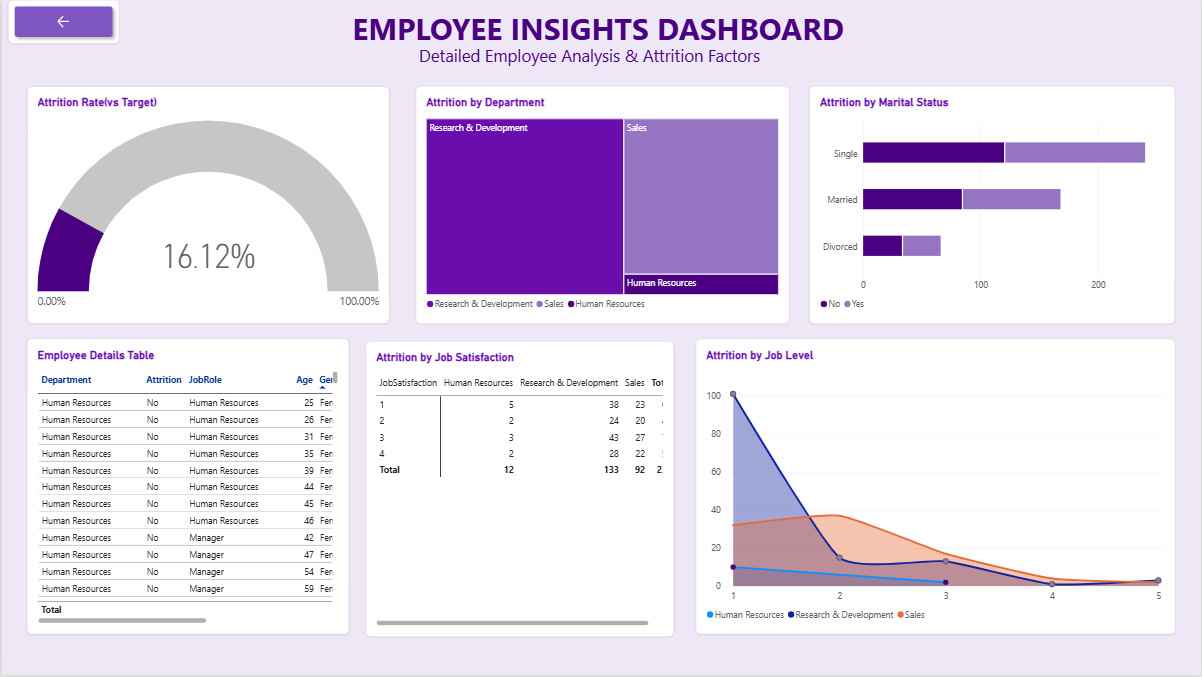

This screenshot's page, from the dashboard's own definition file:
{"tool":"powerbi","page":{"name":"Page 2","canvas":[1920,1080],"ordinal":1},"visuals":[{"type":"textbox","box":[10,0,1887.5,137.5],"z":0},{"type":"gauge","title":"Attrition Rate(vs Target)","fields":{"Y":["Exp_6.Attrition Rate"]},"box":[40,137.5,580,380],"z":1000},{"type":"treemap","title":"Attrition by Department","fields":{"Group":["Exp_6.Department"],"Values":["Exp_6.Attrition Count"]},"box":[662.5,137.5,597.5,380],"z":2000},{"type":"barChart","title":"Attrition by Marital Status","fields":{"Category":["Exp_6.MaritalStatus"],"Series":["Exp_6.Attrition"],"Y":["Exp_6.Attrition Count"]},"box":[1292.5,137.5,585,380],"z":3000},{"type":"lineChart","title":"Attrition by Job Level","fields":{"Category":["Exp_6.JobLevel"],"Series":["Exp_6.Department"],"Y":["Exp_6.Attrition Count"]},"box":[1110,542.5,767.5,472.5],"z":4000},{"type":"pivotTable","title":"Attrition by Job Satisfaction","fields":{"Columns":["Exp_6.Department"],"Rows":["Exp_6.JobSatisfaction"],"Values":["Exp_6.Attrition Count"]},"box":[582.5,545,492.5,472.5],"z":5000},{"type":"tableEx","title":"Employee Details Table","fields":{"Values":["Exp_6.Department","Exp_6.Attrition","Exp_6.JobRole","Exp_6.Age","Exp_6.Gender","Sum(Exp_6.MonthlyRate)","Sum(Exp_6.YearsAtCompany)"]},"box":[40,542.5,515,472.5],"z":6000},{"type":"actionButton","box":[10.8,0,177.5,69.3],"z":7000}]}

Visuals, with their boxes in screenshot pixels (x1, y1, x2, y2), scaled from the page's 1920x1080 canvas onto the 1202x677 screenshot:
textbox: detection(6, 0, 1188, 86)
"Attrition Rate(vs Target)" gauge: detection(25, 86, 388, 324)
"Attrition by Department" treemap: detection(415, 86, 789, 324)
"Attrition by Marital Status" barChart: detection(809, 86, 1175, 324)
"Attrition by Job Level" lineChart: detection(695, 340, 1175, 636)
"Attrition by Job Satisfaction" pivotTable: detection(365, 342, 673, 638)
"Employee Details Table" tableEx: detection(25, 340, 347, 636)
actionButton: detection(7, 0, 118, 43)
